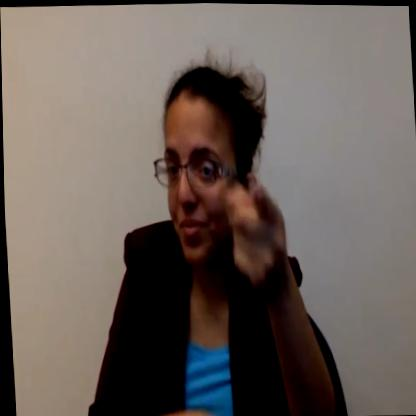HowAreYou: (159, 150, 302, 416)
